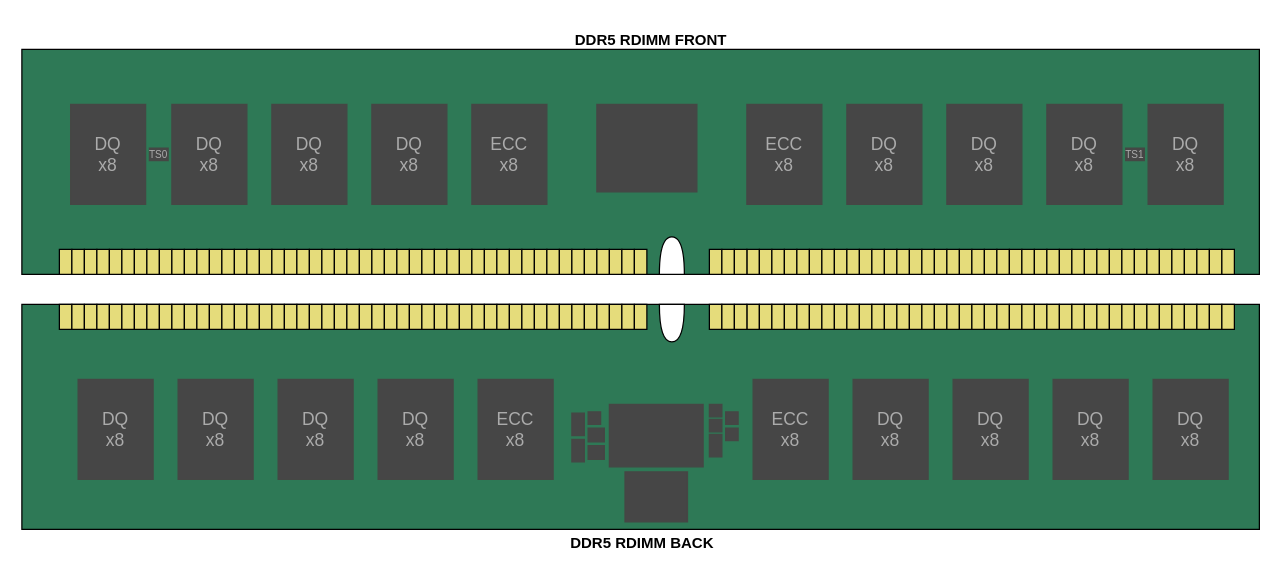
Some shapes in this 1281 by 583 pixel diagram are drawn without their labels. Here are the shapes that lost their labels. From the top down, the centre of each, then its label:
At [646,147]: "RCD".
At [655,435]: "PMIC".
At [656,496]: "SPD HUB".
